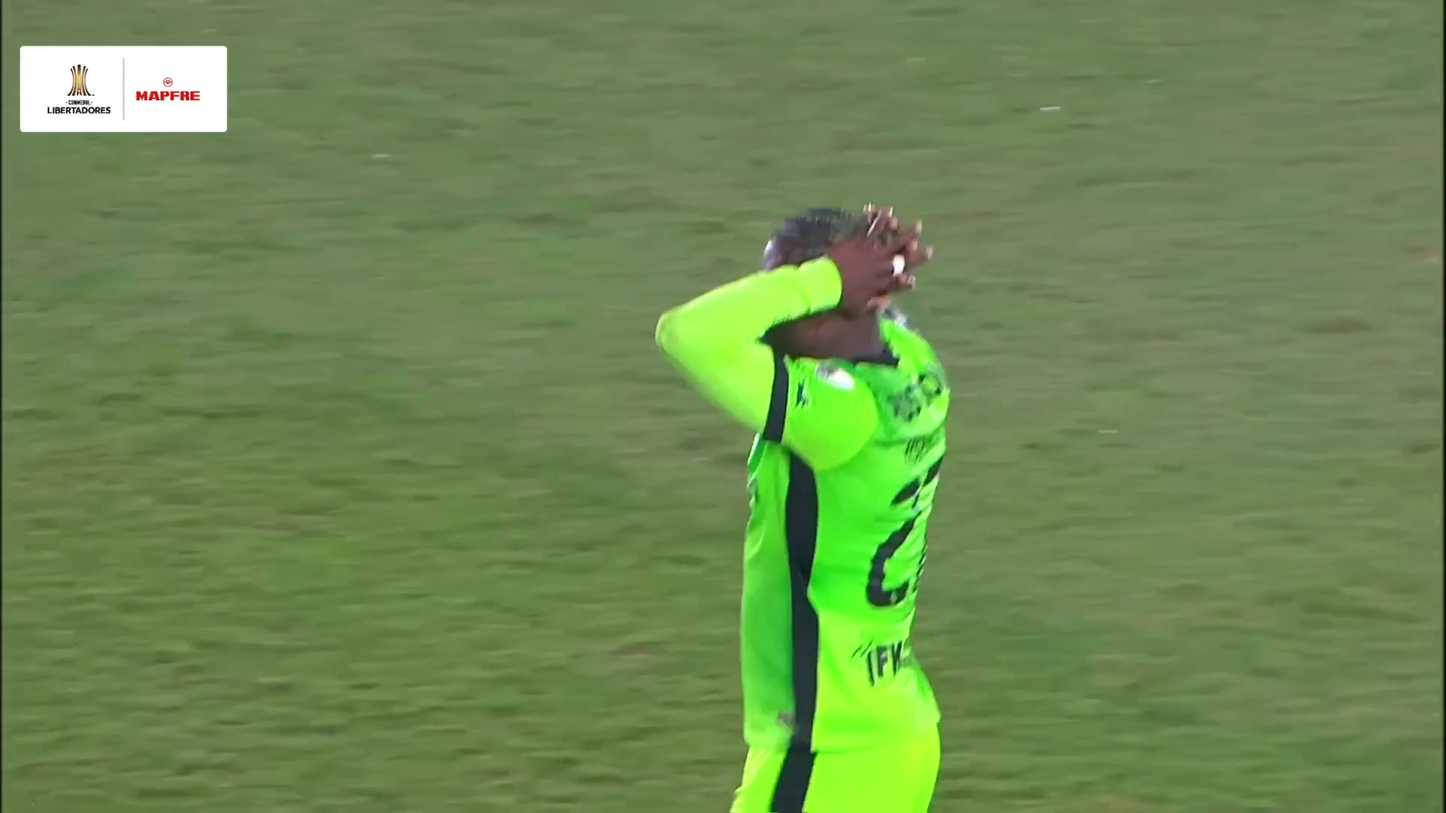player: (645, 191, 966, 813)
